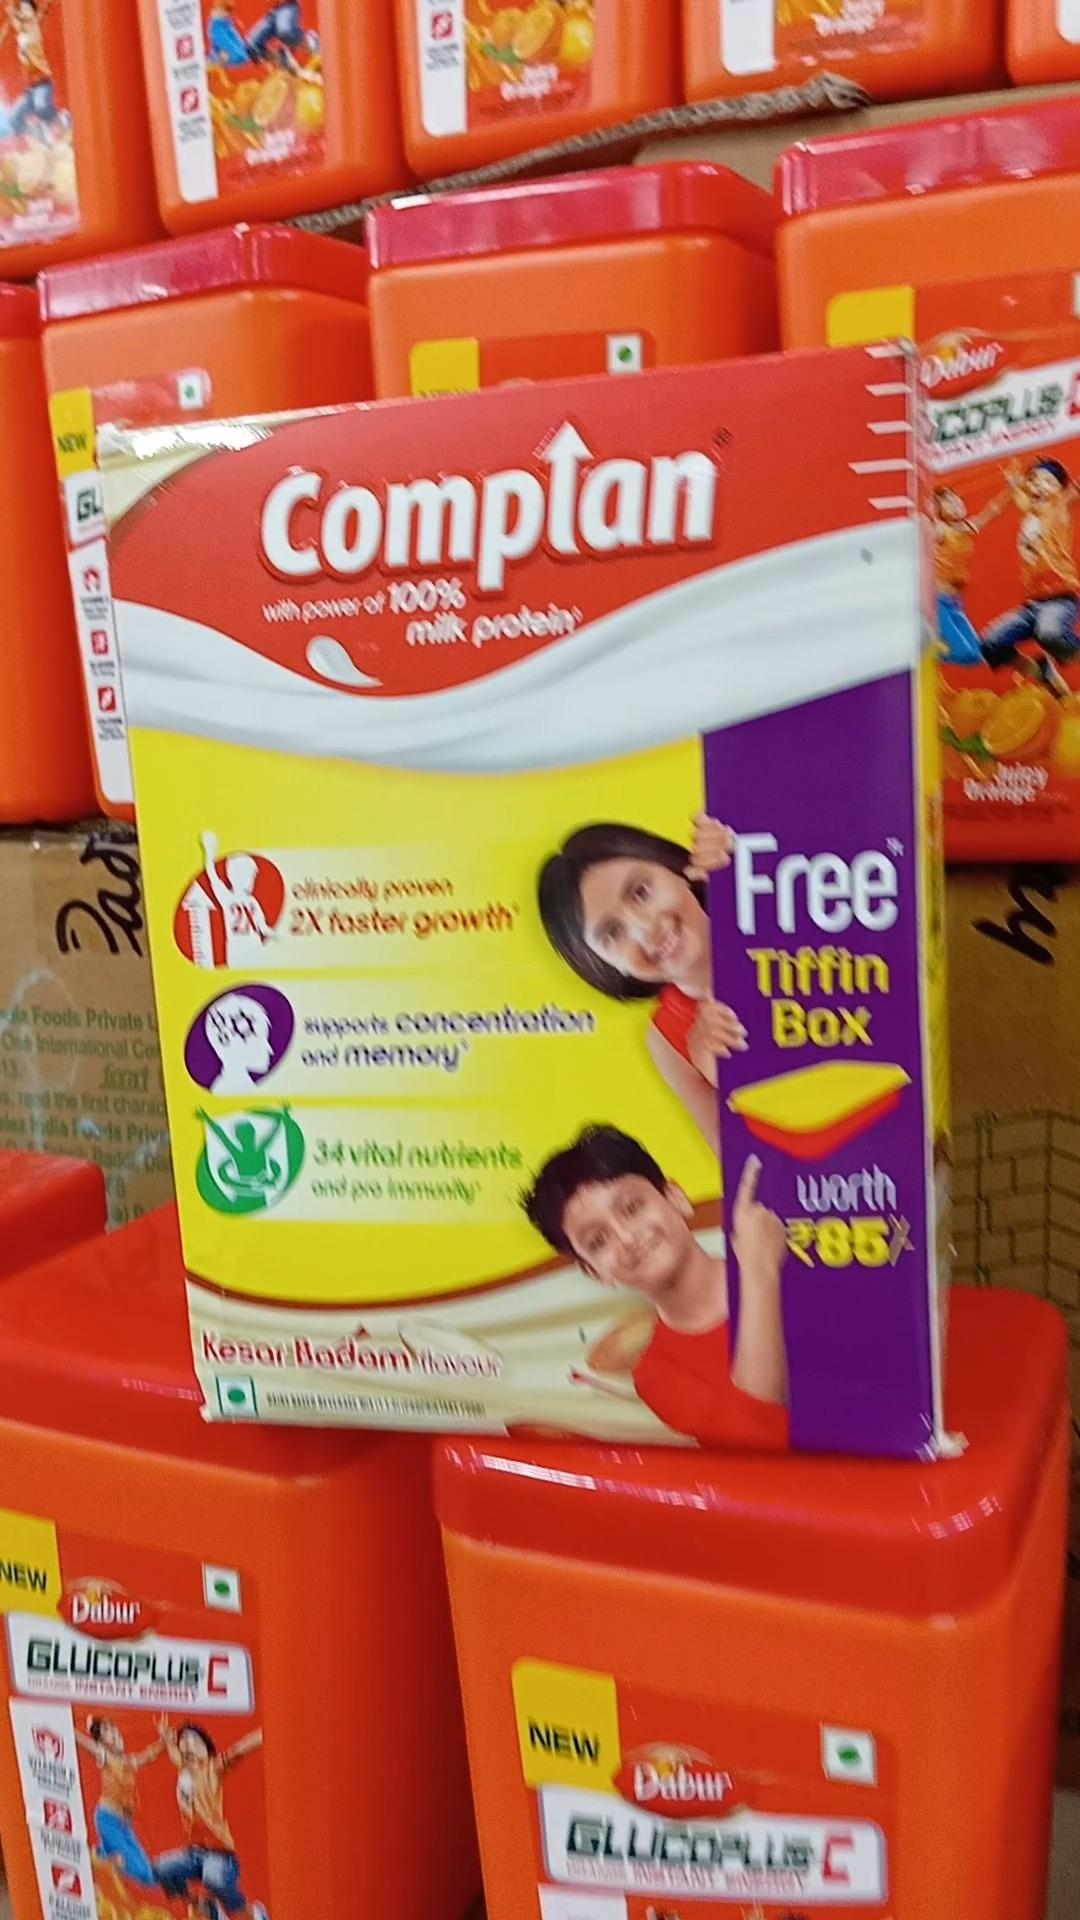COMPLAN_KESAR_BADAM_500_GMS_PACK: (136, 369, 936, 1460)
